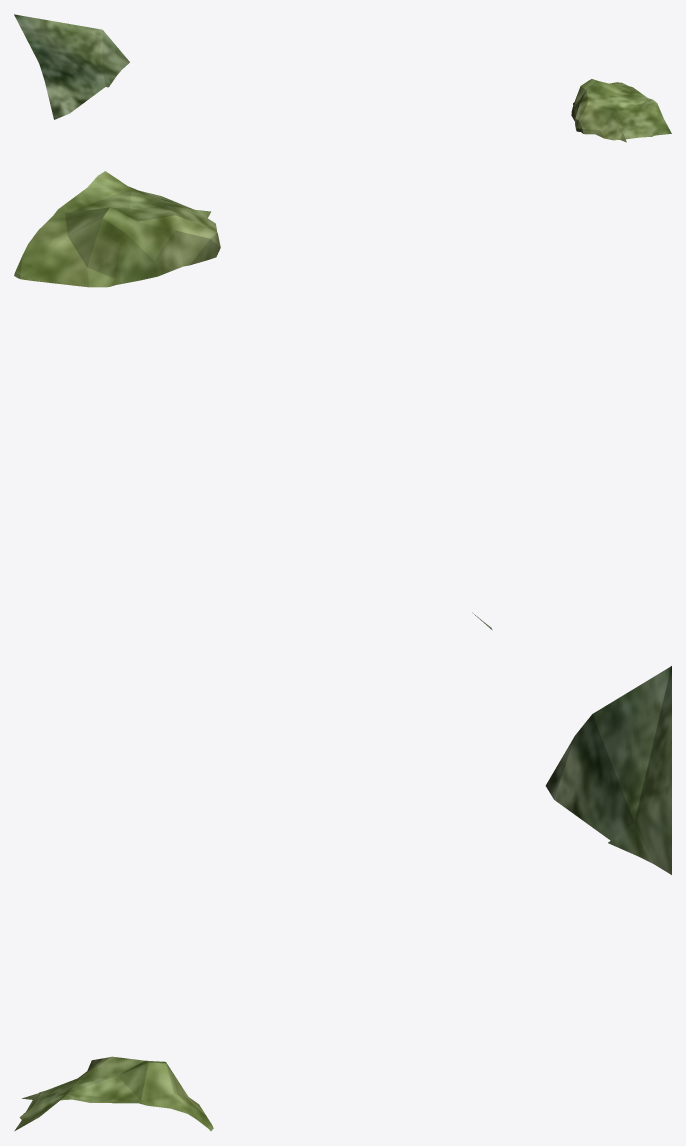
The picture shows the model from 3 angles, top to bottom: view 1: azimuth 30°, elevation 25°; view 2: azimuth 150°, elevation 25°; view 3: azimuth 270°, elevation 25°; orthographic projection. The views are drawn at different scales.
Bounding box in the file's own units: 5.9 × 0.9578 × 4.74.
1 material, 1 textured.
